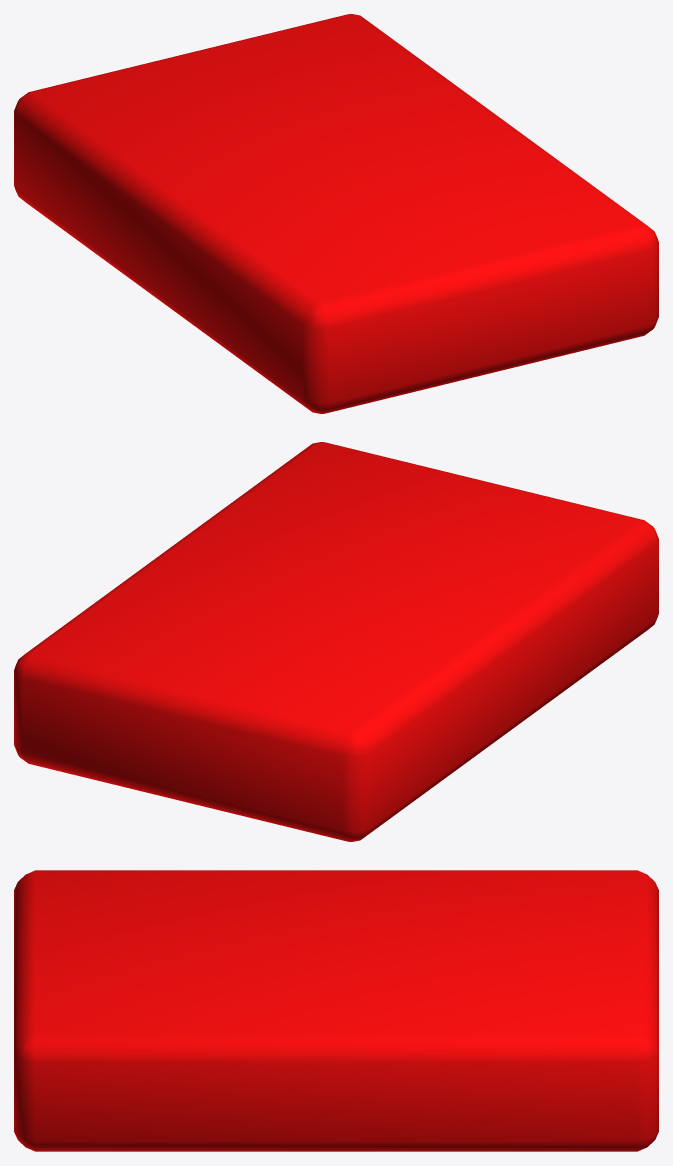
File: CuboidBlockRed.fbx
3 renders of one model, top to bottom at view 1: azimuth 30°, elevation 25°; view 2: azimuth 150°, elevation 25°; view 3: azimuth 270°, elevation 25°, orthographic. The views are drawn at different scales.
Parts seen in each view (by area): view 1: CuboidBlock; view 2: CuboidBlock; view 3: CuboidBlock.
Boxes of the visible parts, x1=… form: CuboidBlock: x1=14, y1=14, x2=658, y2=413; CuboidBlock: x1=14, y1=442, x2=658, y2=841; CuboidBlock: x1=14, y1=870, x2=658, y2=1151.
Bounding box in the file's own units: 4 × 1.2 × 6.
